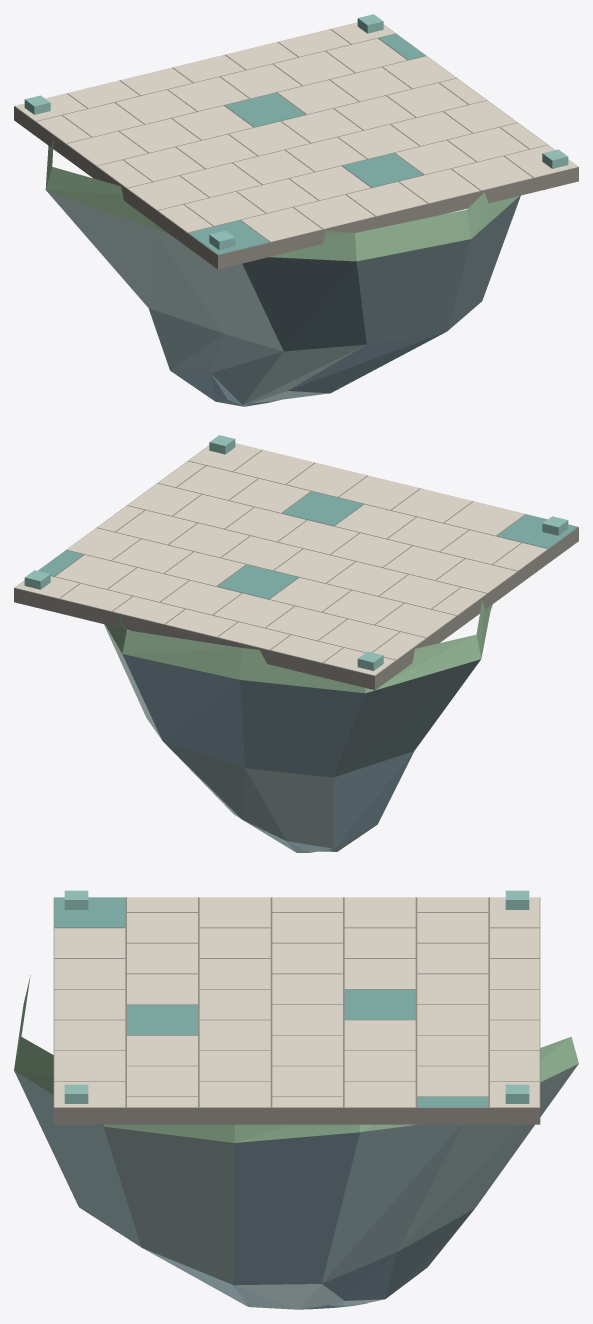
The model's file is FloatingIsland12.glb.
3 views of the same model, one above another, from view 1: azimuth 30°, elevation 25°; view 2: azimuth 150°, elevation 25°; view 3: azimuth 270°, elevation 25° (orthographic). The views are drawn at different scales.
Parts seen in each view (by area): view 1: FloatingIsland12; view 2: FloatingIsland12; view 3: FloatingIsland12.
Boxes of the visible parts, <box> form: FloatingIsland12: <box>14,14,578,406</box>; FloatingIsland12: <box>14,435,578,852</box>; FloatingIsland12: <box>14,890,578,1309</box>.
Bounding box in the file's own units: 7.94 × 5.37 × 8.17.
